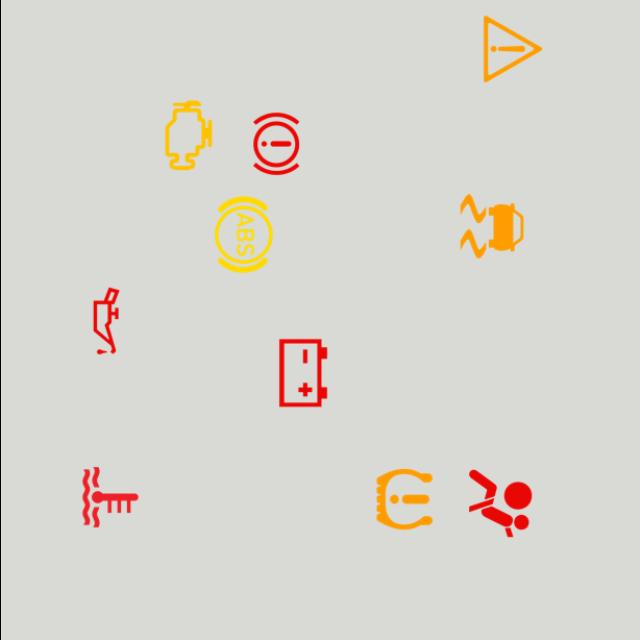Anti Lock Braking System: (201, 192, 285, 276)
Braking System Issue: (233, 102, 317, 186)
Charging System Issue: (260, 331, 344, 415)
Check Engine: (146, 94, 230, 178)
Electronic Stability Problem -ESP-: (449, 184, 533, 268)
Engine Overheating Warning Light: (67, 455, 152, 539)
Low Engine Oil Warning Light: (64, 279, 148, 363)
Low Tire Pressure Warning Light: (362, 458, 446, 542)
Master warning light: (470, 7, 554, 91)
SRS-Airbag: (458, 462, 542, 546)
